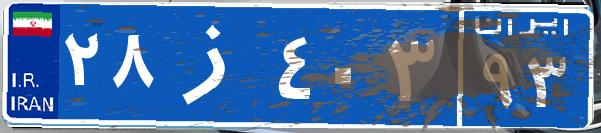0: (330, 28, 385, 110)
2: (57, 26, 110, 107)
3: (385, 28, 445, 110), (525, 38, 570, 115)
4: (273, 28, 330, 110)
8: (110, 28, 158, 105)
9: (475, 38, 525, 113)
ز: (158, 15, 273, 115)
